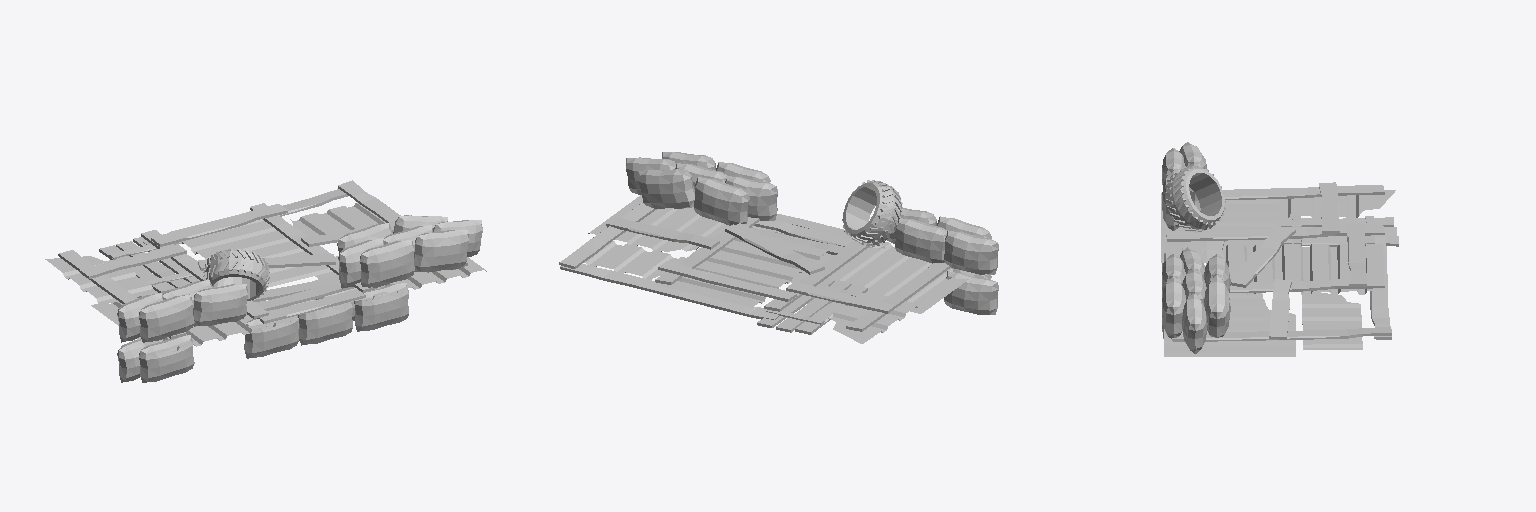
The picture shows the model from 3 angles: view 1: azimuth 30°, elevation 25°; view 2: azimuth 150°, elevation 25°; view 3: azimuth 270°, elevation 25°; orthographic projection.
Visible parts, largest first — view 1: Barrier_Trash.015_Cube.150; view 2: Barrier_Trash.015_Cube.150; view 3: Barrier_Trash.015_Cube.150.
Boxes of the visible parts, x1,y1,x2,y2 form: Barrier_Trash.015_Cube.150: [45, 180, 486, 382]; Barrier_Trash.015_Cube.150: [559, 152, 998, 343]; Barrier_Trash.015_Cube.150: [1161, 142, 1398, 356].
Bounding box in the file's own units: 915 × 267 × 512.